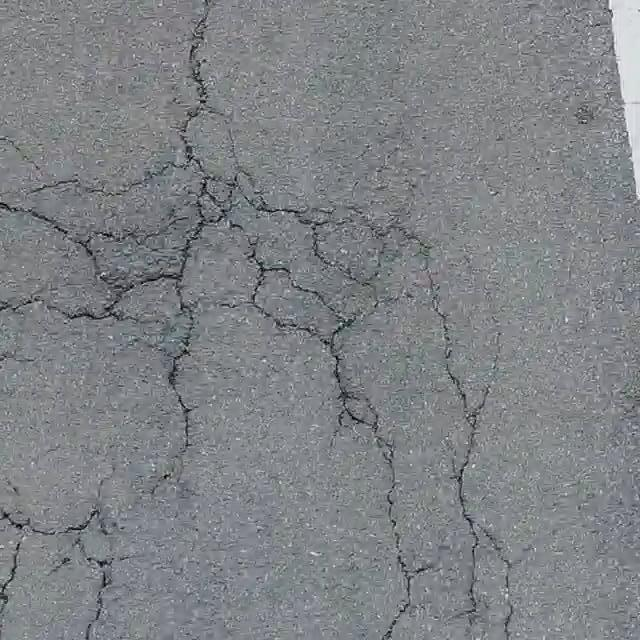GRIETA: (188, 0, 213, 100)
PIEL DE COCODRILO: (0, 99, 539, 639)
